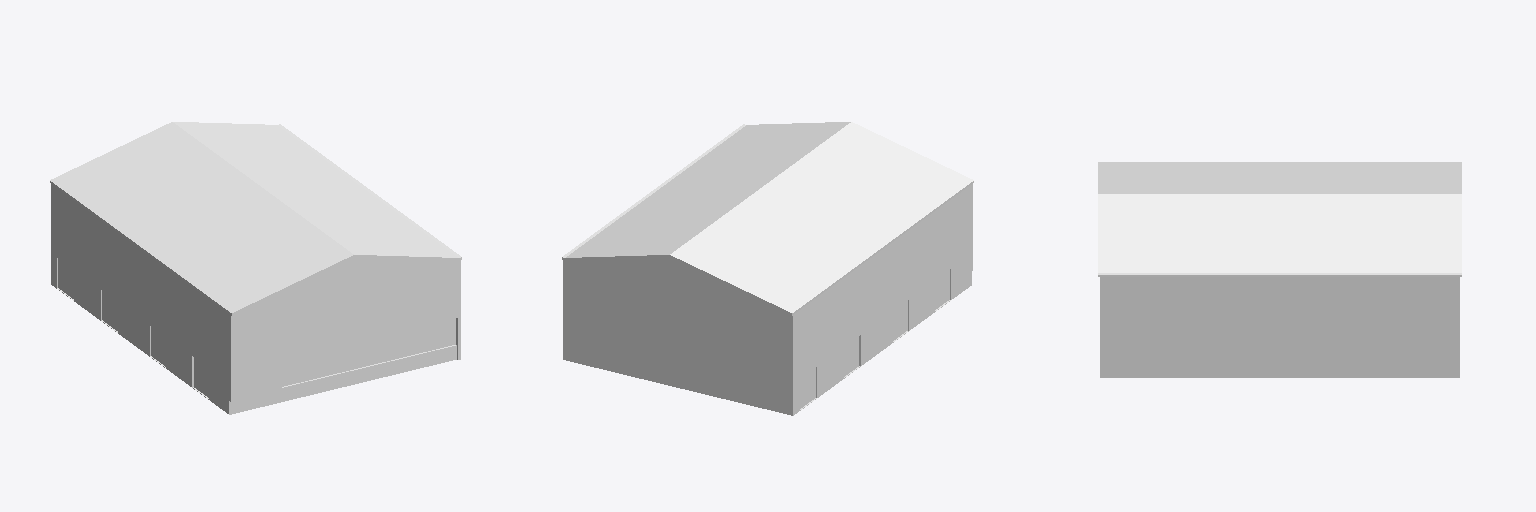
The model's file is industrial8.obj.
3 renders of one model, left to right at view 1: azimuth 30°, elevation 25°; view 2: azimuth 150°, elevation 25°; view 3: azimuth 270°, elevation 25°, orthographic.
Visible parts, largest first — view 1: industrial8; view 2: industrial8; view 3: industrial8.
Boxes of the visible parts, <box> form: industrial8: <box>50,122,461,414</box>; industrial8: <box>562,122,973,415</box>; industrial8: <box>1098,162,1461,377</box>.
Size of the model in its own units: 883 by 483 by 1206.